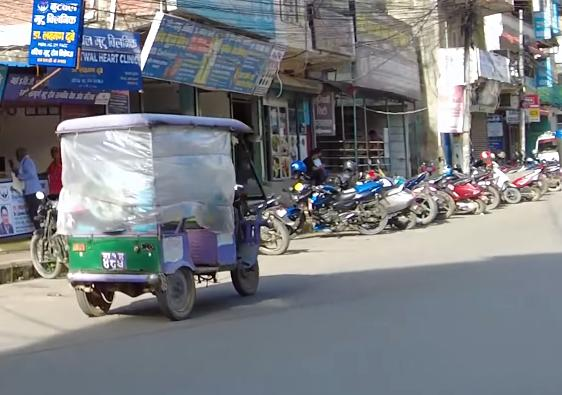bike: (283, 178, 388, 238)
e-rickshaw: (49, 105, 269, 322)
